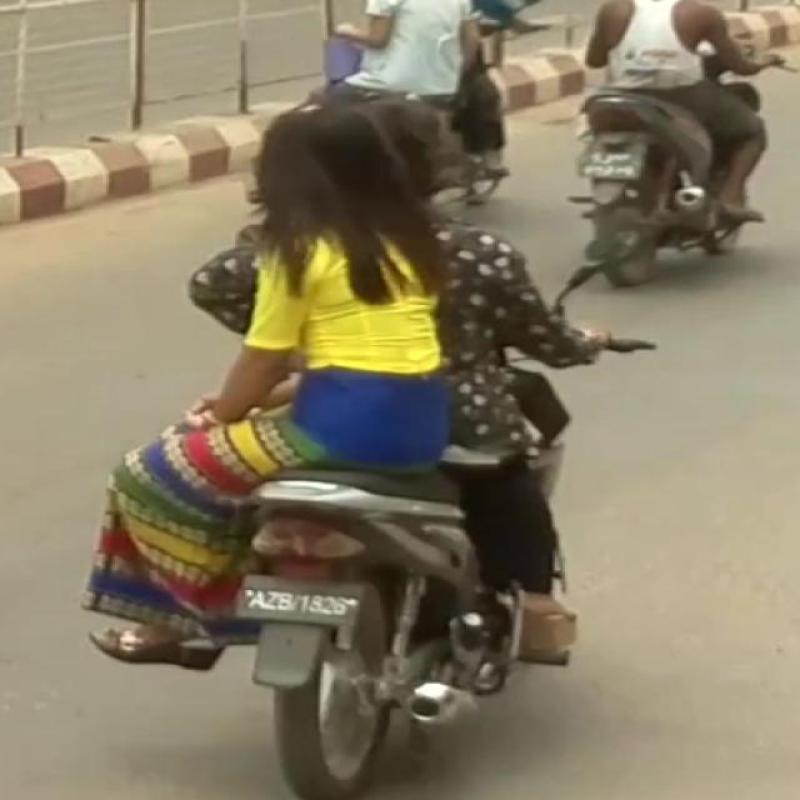nohelmet: (242, 100, 404, 240)
